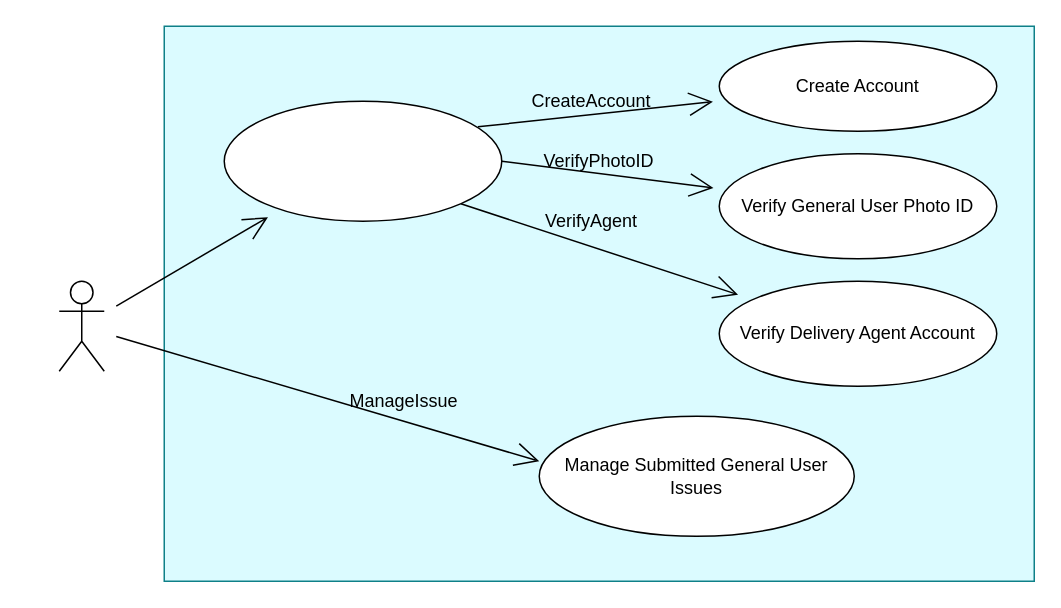
This 1061x608 diagram has some shape labels left out. The box of each missing label's shape, as (x1, y1, x2, y2) in pixels:
Administrative User: (58, 280, 104, 371)
Manage Accounts: (223, 100, 502, 221)
